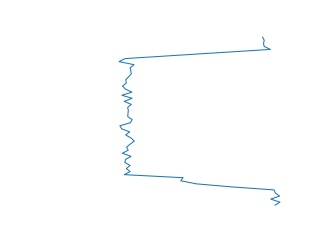distributaryChannelFill: (116, 37, 287, 207)
